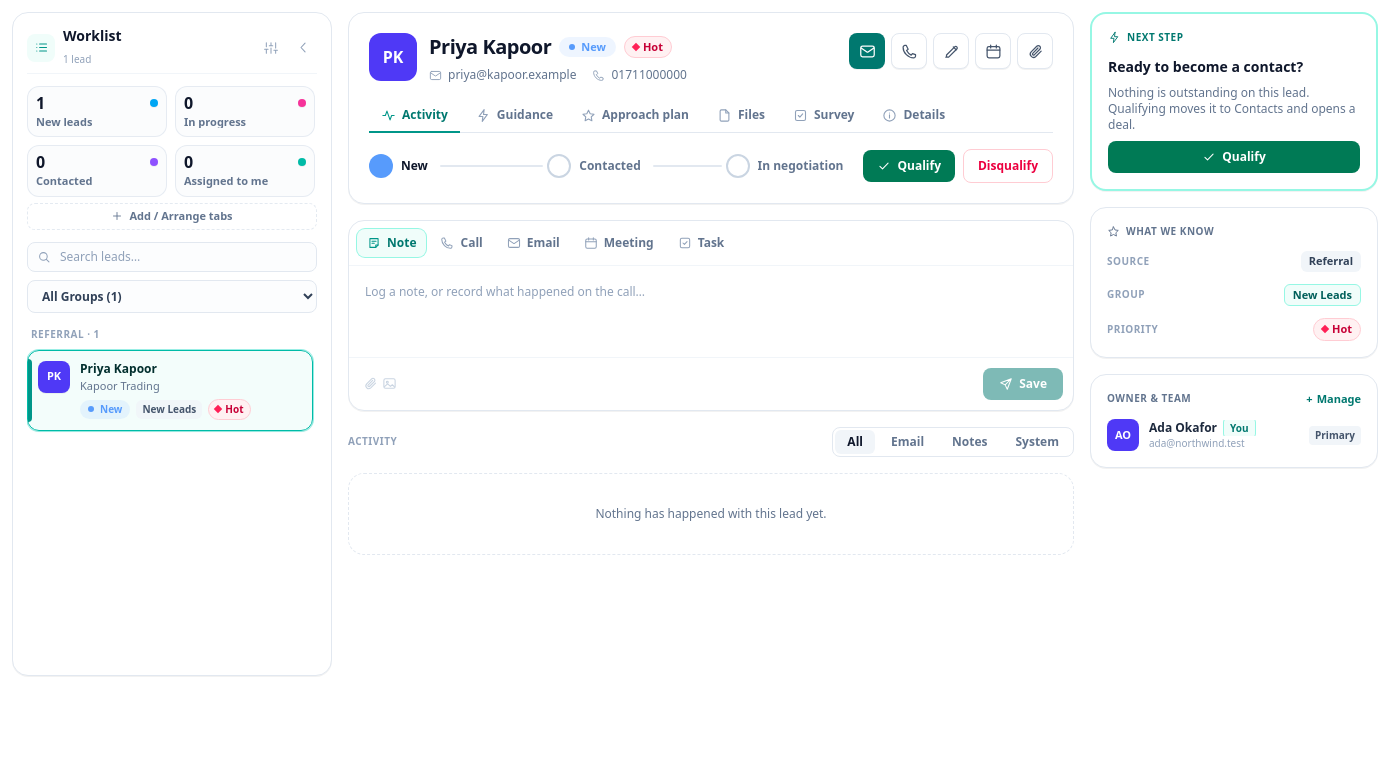
Test: LeadWorkspace › the worklist › collapses so the centre can fill the space
The width and height of the screenshot is (1378, 780).
Click the button named "Collapse worklist" at (303, 48), box [289,34,317,62]
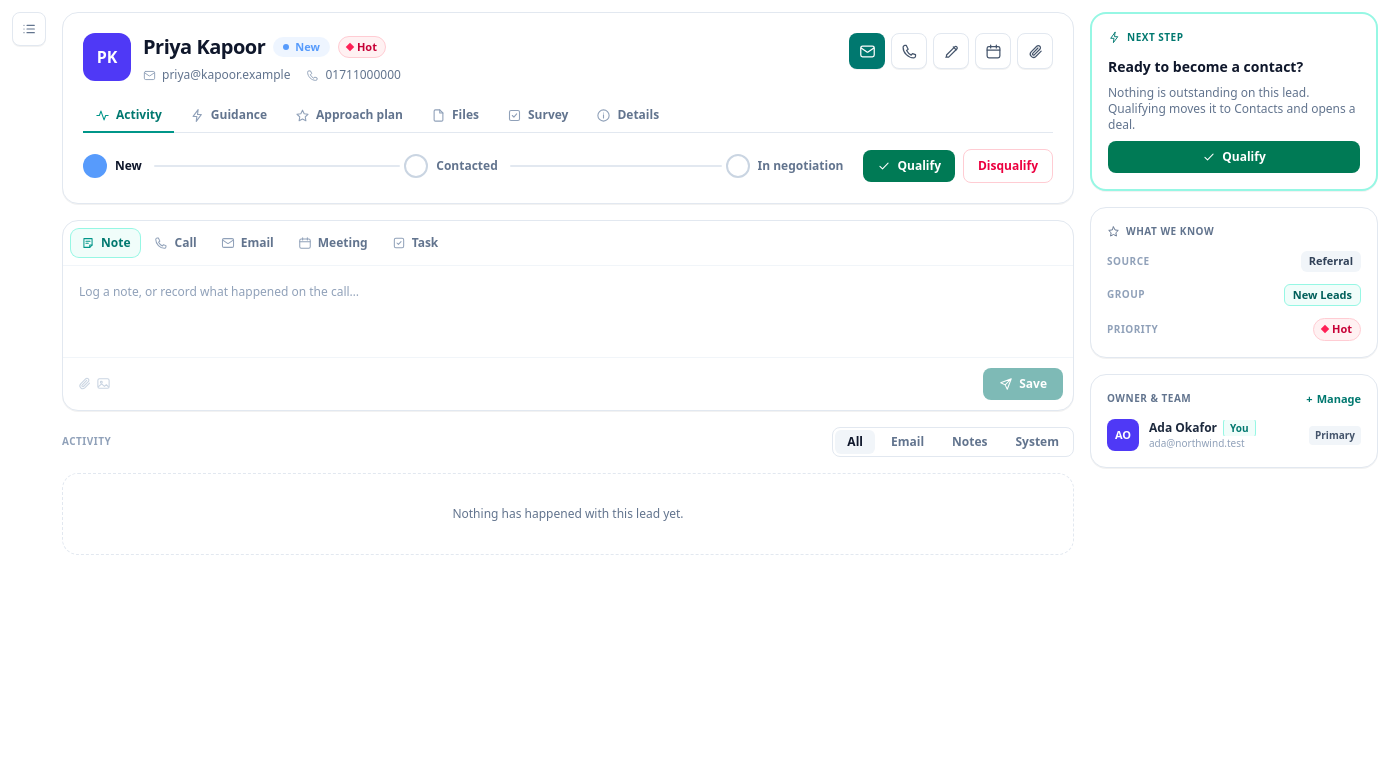
Expected: the heading "Worklist" is gone
Expected: the button named "Expand worklist" is shown, [12,12,46,46]
